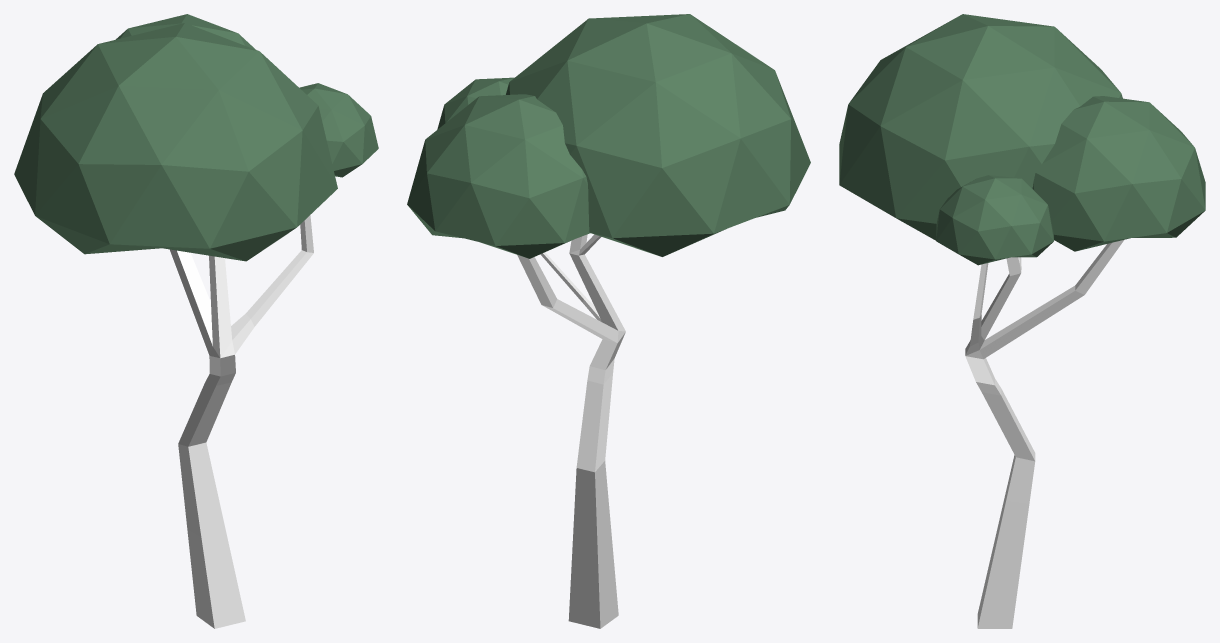
The model's file is GrasslandsTreeType3.fbx.
The picture shows the model from 3 angles, left to right: view 1: azimuth 30°, elevation 25°; view 2: azimuth 150°, elevation 25°; view 3: azimuth 270°, elevation 25°; orthographic projection. The views are drawn at different scales.
Parts seen in each view (by area): view 1: GrasslandsTreeType3; view 2: GrasslandsTreeType3; view 3: GrasslandsTreeType3.
Part boxes in pixels (x1=…): GrasslandsTreeType3: x1=14, y1=14, x2=378, y2=628; GrasslandsTreeType3: x1=407, y1=14, x2=810, y2=628; GrasslandsTreeType3: x1=839, y1=14, x2=1205, y2=628.
Bounding box in the file's own units: 3.4 × 5.71 × 3.31.
